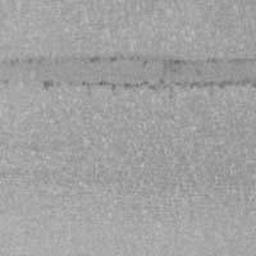Inclusion: (0, 54, 256, 92)
